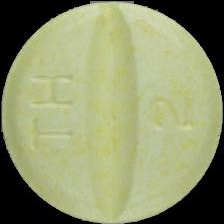51079-433: (0, 0, 224, 224)
